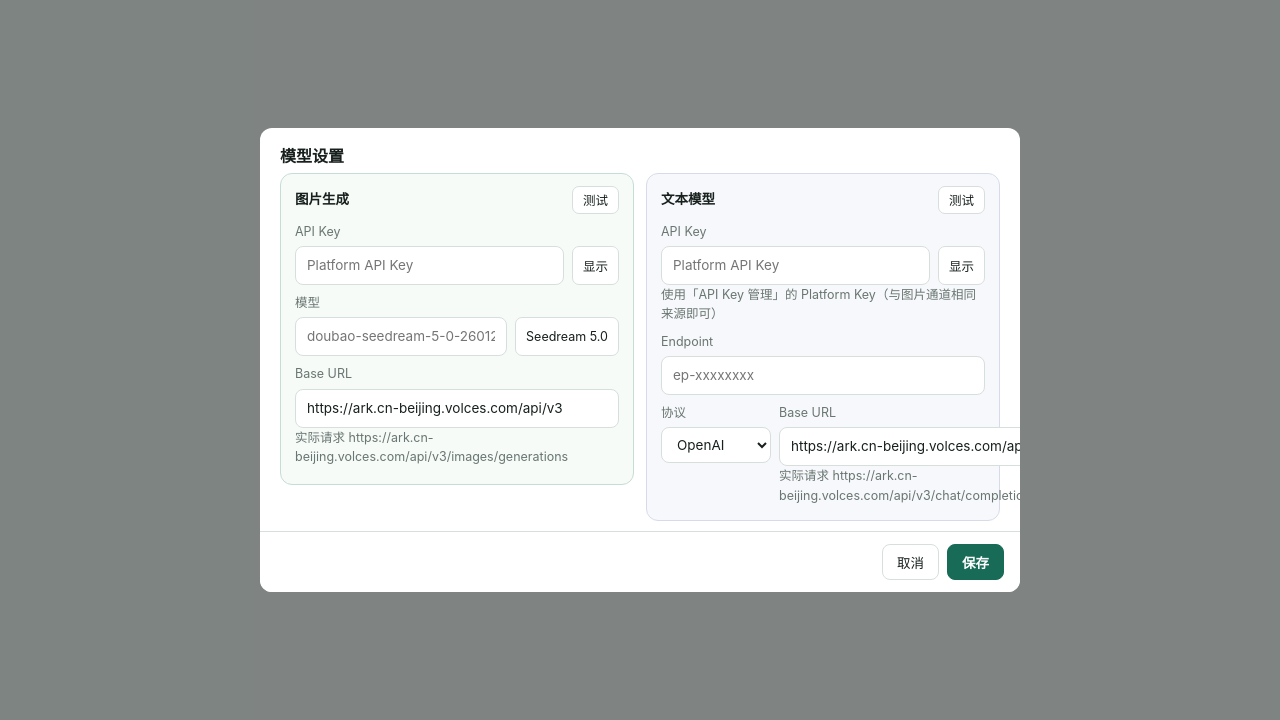
Test: 模型设置 › 未填图片模型时，实测按钮提示缺失项且不发请求
Type "sk-test" into the password field with test id "image-apikey-input" at point(430, 266), box x1=295 y1=246 x2=564 y2=285
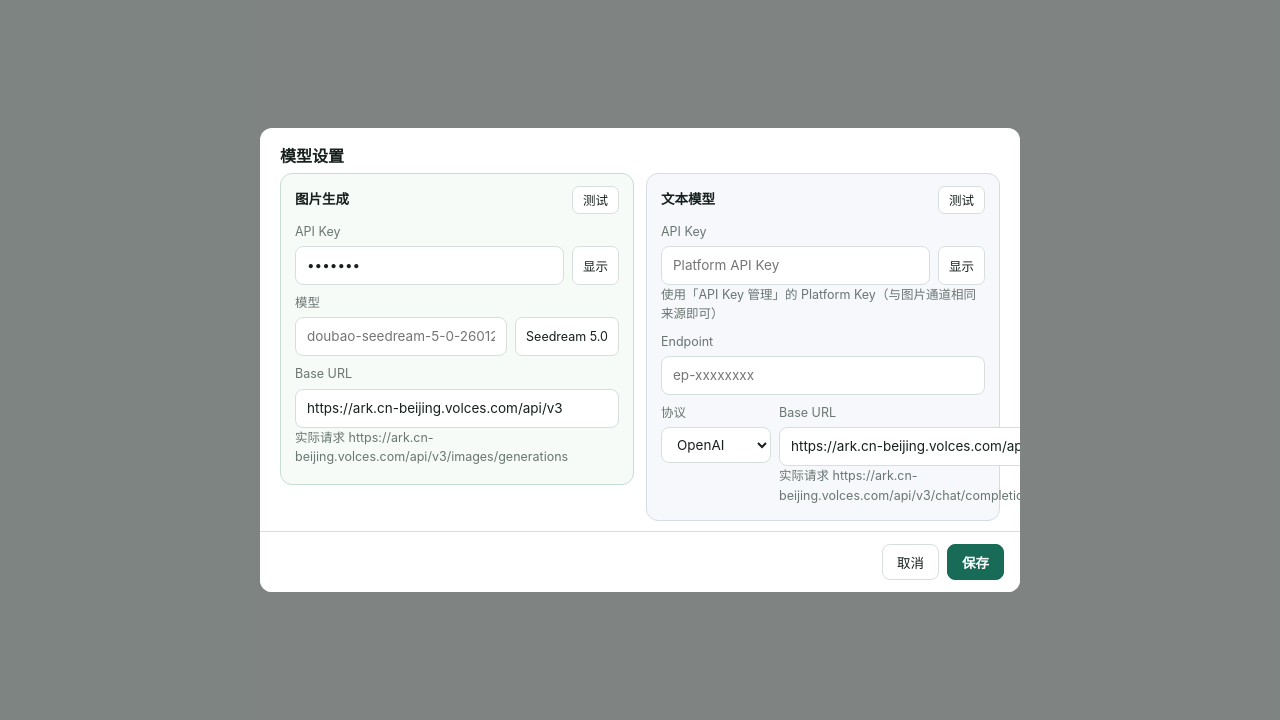
Click the button with test id "image-test-btn" at point(596, 200), box x1=572 y1=186 x2=619 y2=214
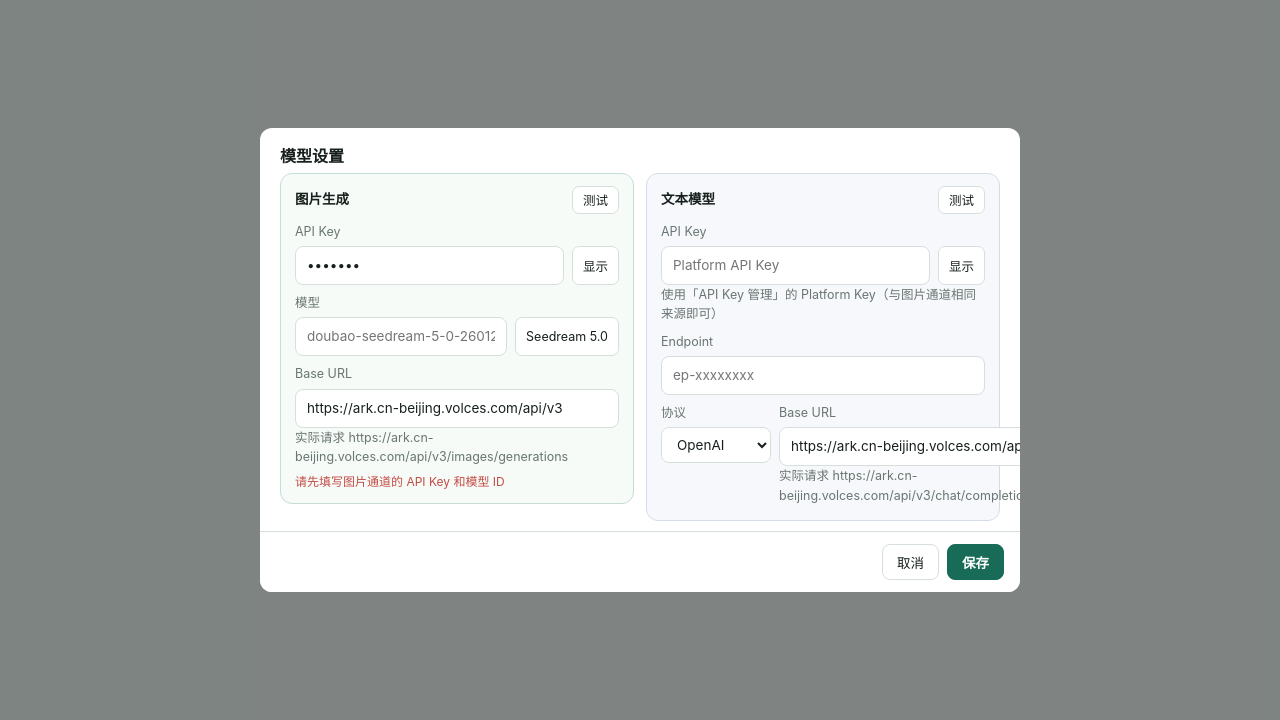
Expected: the text with test id "image-test-result" reads "请先填写图片通道的 API Key 和模型 ID", x1=295 y1=474 x2=505 y2=489
